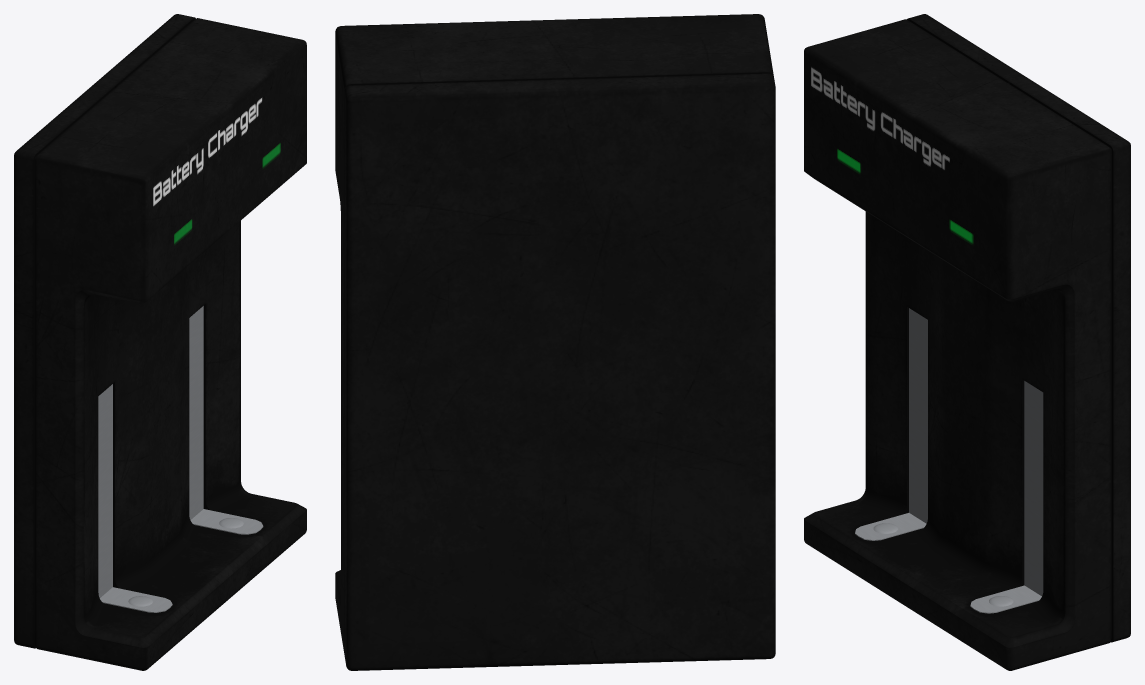
File: battery_charger.glb
3 views of the same model, side by side, from view 1: azimuth 30°, elevation 25°; view 2: azimuth 150°, elevation 25°; view 3: azimuth 270°, elevation 25° (orthographic). The views are drawn at different scales.
Parts seen in each view (by area): view 1: Body_0, Bit 1_1; view 2: Body_0; view 3: Body_0, Bit 1_1.
Part boxes in pixels (x1=…): Body_0: x1=14, y1=14, x2=306, y2=670; Bit 1_1: x1=98, y1=306, x2=263, y2=612; Body_0: x1=335, y1=14, x2=775, y2=670; Body_0: x1=804, y1=14, x2=1130, y2=670; Bit 1_1: x1=855, y1=308, x2=1043, y2=613.
Bounding box in the file's own units: 2.42 × 3.43 × 2.04.
Materials: 3 (3 with a texture image).
